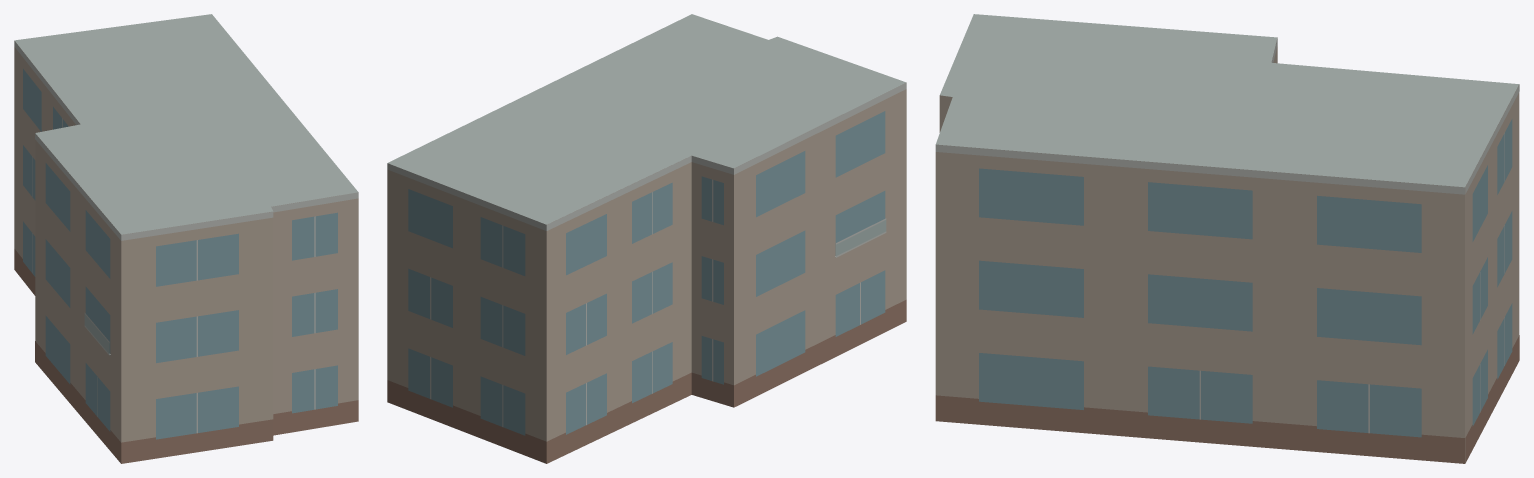
File: survey-upis-32460721.glb
3 views of the same model, side by side, from view 1: azimuth 30°, elevation 25°; view 2: azimuth 150°, elevation 25°; view 3: azimuth 270°, elevation 25° (orthographic). The views are drawn at different scales.
Visible parts, largest first — view 1: survey-upis-32460721.tmp; view 2: survey-upis-32460721.tmp; view 3: survey-upis-32460721.tmp.
Boxes of the visible parts, left/top/right/bottom form: survey-upis-32460721.tmp: left=14, top=14, right=358, bottom=463; survey-upis-32460721.tmp: left=387, top=14, right=906, bottom=463; survey-upis-32460721.tmp: left=935, top=14, right=1519, bottom=463.
Size of the model in its own units: 12.31 by 9.15 by 17.51.
